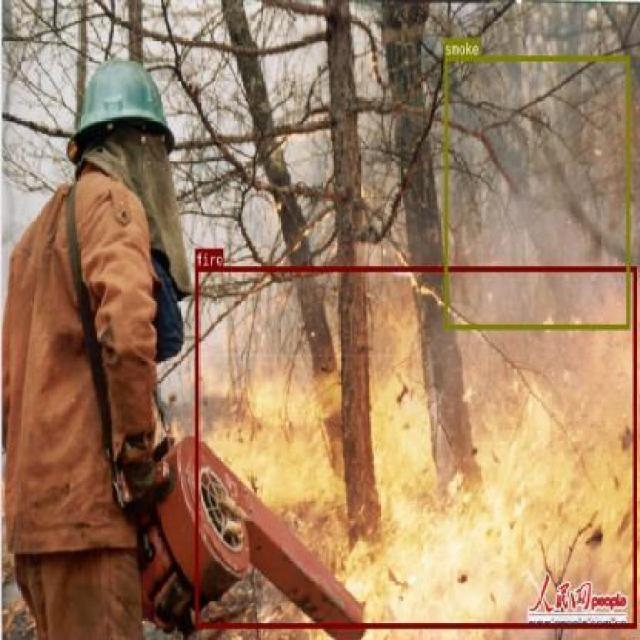Fire: (192, 295, 622, 625)
Smoke: (472, 25, 638, 312)
